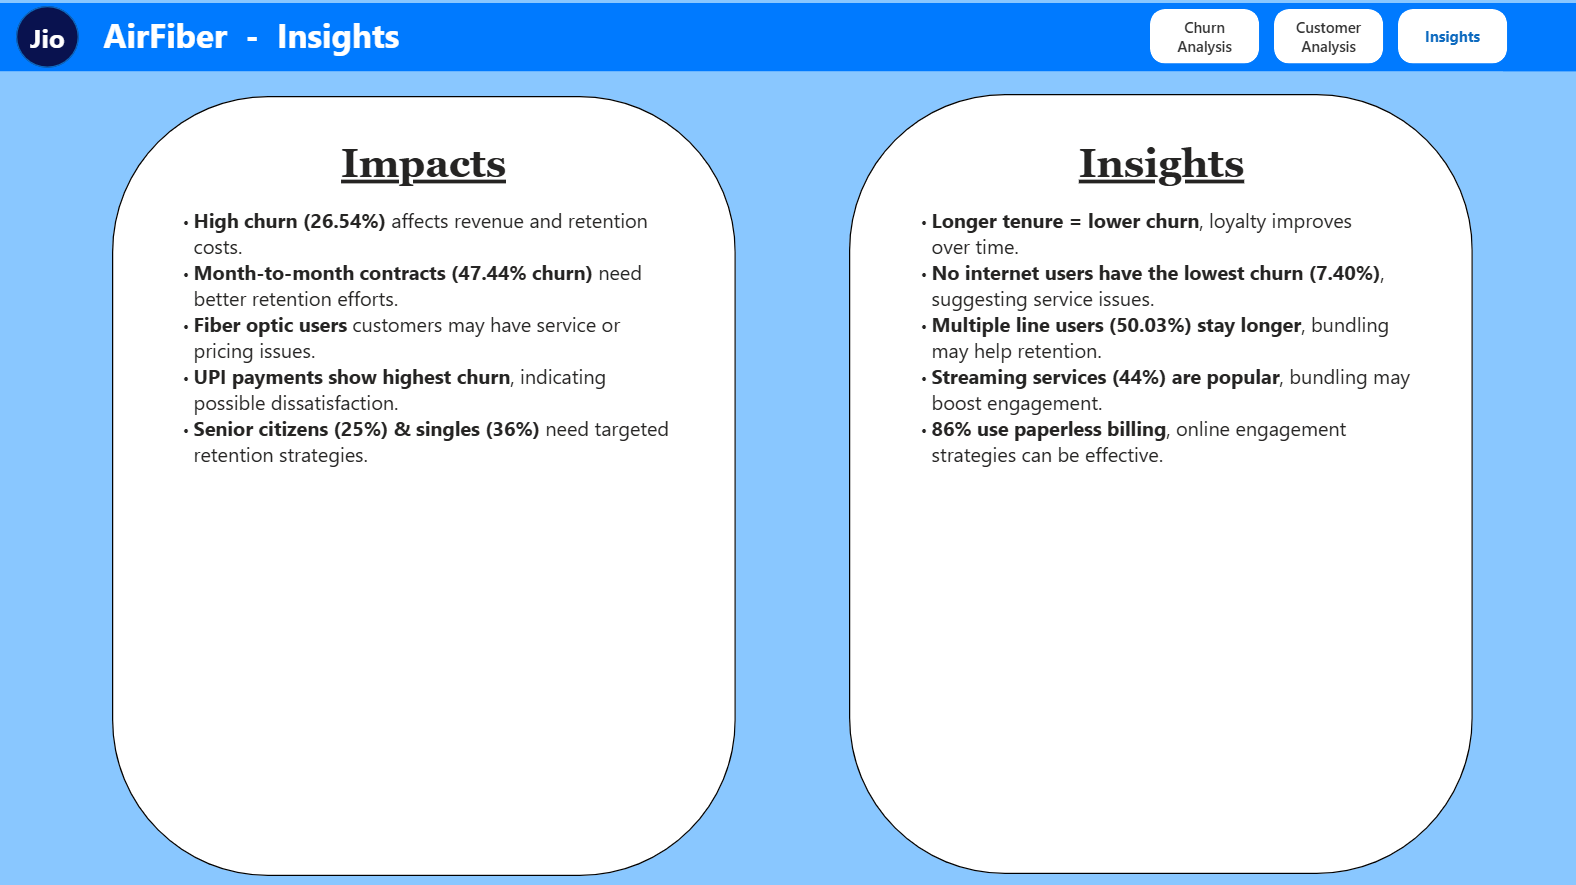

This screenshot's page, from the dashboard's own definition file:
{"tool":"powerbi","page":{"name":"Insights","canvas":[1280,720],"ordinal":2},"visuals":[{"type":"shape","box":[95.1,79,502.9,628.9],"z":0},{"type":"textbox","box":[138.2,110.6,416.9,597.3],"z":1000},{"type":"shape","box":[689.6,77.3,502.9,628.9],"z":2000},{"type":"textbox","box":[732.8,110.6,416.9,597.3],"z":3000},{"type":"shape","box":[0,3.7,1280,55.1],"z":4000},{"type":"shape","box":[1216.9,3.7,63.1,55.1],"z":5000},{"type":"shape","box":[17.8,6.3,50.7,49.8],"z":6000},{"type":"textbox","box":[82.7,6.2,423.1,49.8],"z":7000},{"type":"actionButton","box":[931.8,9.1,88,44],"z":8000},{"type":"actionButton","box":[1031.8,9.1,88,44],"z":9000},{"type":"actionButton","box":[1131.8,9.1,88,44],"z":10000}]}

Visuals, with their boxes on the page's 1280x720 design canvas (x1, y1, x2, y2). These are canvas units, not pixel positions in the 1576x885 screenshot, which may show the page scaled, cropped or inside an application window:
shape: Rect(95, 79, 598, 708)
textbox: Rect(138, 111, 555, 708)
shape: Rect(690, 77, 1192, 706)
textbox: Rect(733, 111, 1150, 708)
shape: Rect(0, 4, 1280, 59)
shape: Rect(1217, 4, 1280, 59)
shape: Rect(18, 6, 68, 56)
textbox: Rect(83, 6, 506, 56)
actionButton: Rect(932, 9, 1020, 53)
actionButton: Rect(1032, 9, 1120, 53)
actionButton: Rect(1132, 9, 1220, 53)
